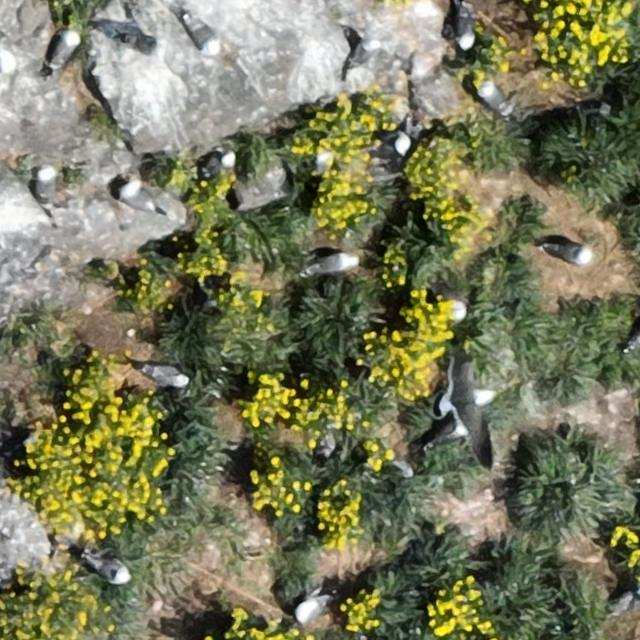F: (444, 351, 494, 454)
umineko: (346, 39, 380, 74), (119, 182, 157, 212), (88, 559, 128, 584), (185, 18, 215, 51), (545, 242, 589, 264), (309, 254, 356, 274), (51, 32, 77, 68), (144, 365, 186, 387), (480, 83, 508, 114), (121, 33, 160, 54), (457, 8, 476, 50), (296, 598, 325, 624), (208, 150, 235, 176), (37, 168, 55, 202), (610, 591, 637, 613), (388, 132, 412, 156)
